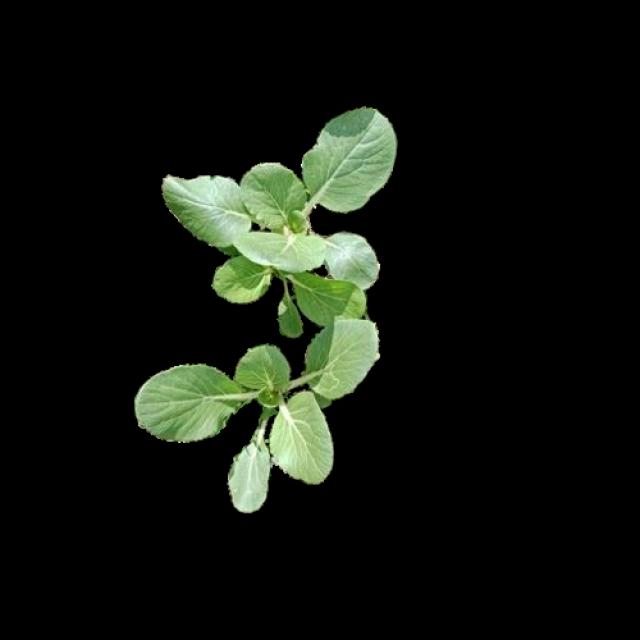healthy: (160, 102, 394, 329)
not-mature: (162, 105, 396, 331), (134, 320, 379, 512)
unhealthy: (300, 335, 364, 401)
